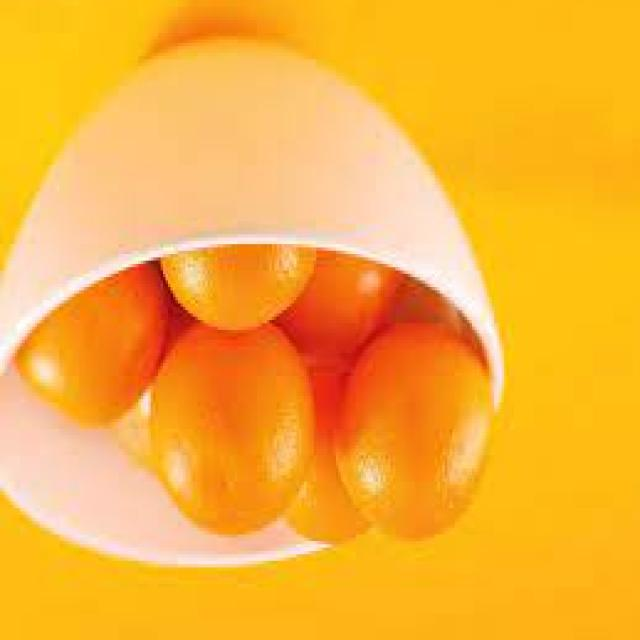orange: (144, 324, 306, 550), (336, 324, 507, 534)
